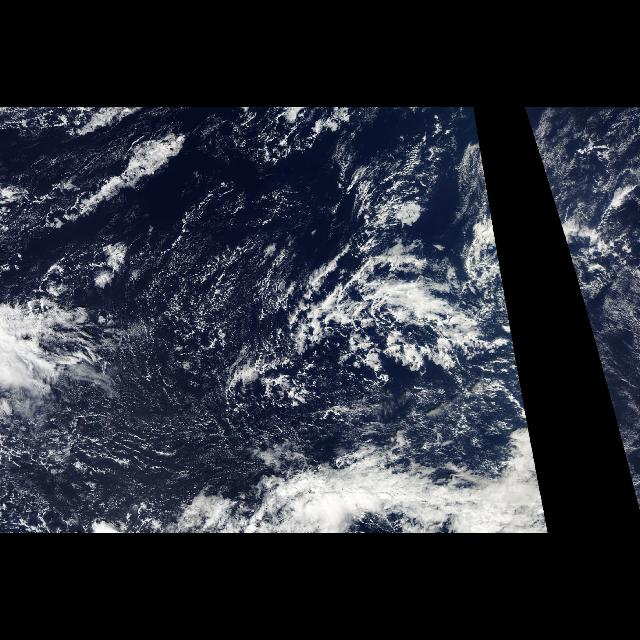Fish: (240, 455, 550, 533), (622, 455, 640, 511)
Gravel: (116, 276, 290, 462)
Sugar: (108, 284, 226, 436), (528, 120, 640, 226), (474, 120, 494, 226)
